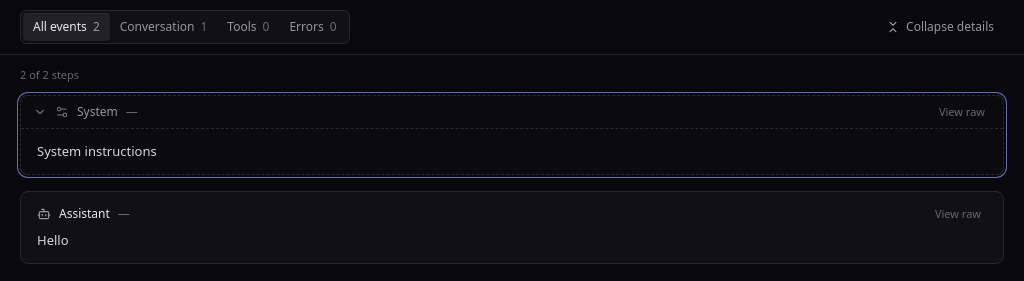
it: timeline navigation › reveals a linked event through filters and allows it to be collapsed
Step 1. Click the button "Conversation 1" → (164, 27), box [110,13,217,41]
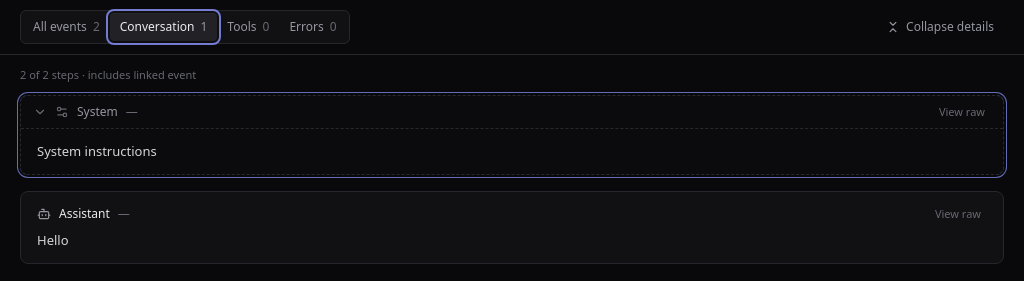
Check: the text "2 of 2 steps · includes linked event" is shown, box [20,67,196,82]
Step 2. Click the button with aria-label "Collapse system message" → (97, 112), box [33,102,925,122]
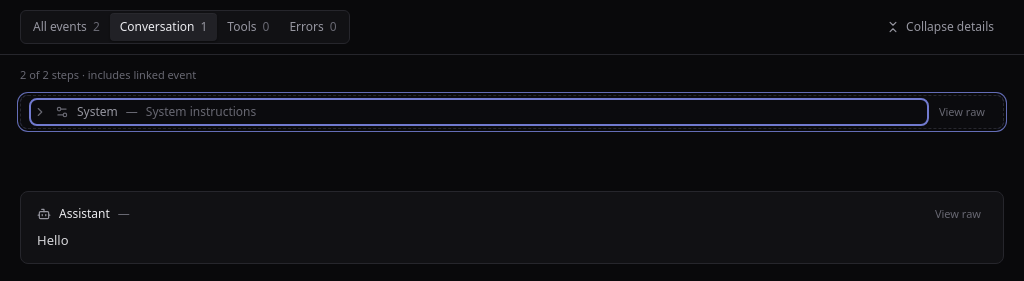
Check: the button with aria-label "Expand system message" is collapsed, box [33,102,925,122]
